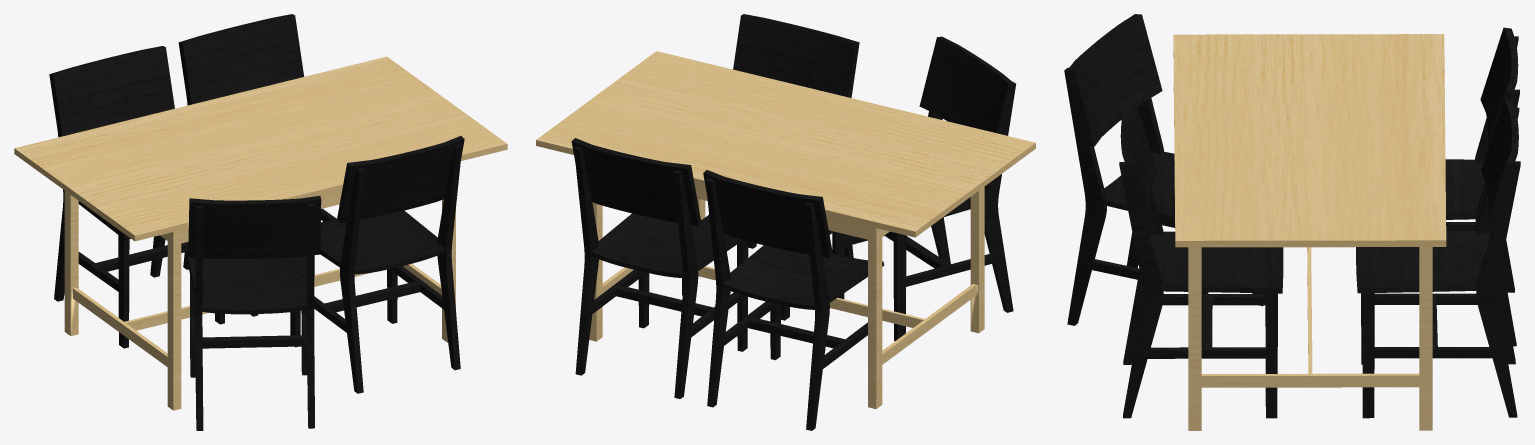
Rendered from IKEA-Norden_Gateleg_Table_and_Chair-3D.obj.
3 renders of one model, left to right at view 1: azimuth 30°, elevation 25°; view 2: azimuth 150°, elevation 25°; view 3: azimuth 270°, elevation 25°, orthographic. The views are drawn at different scales.
Visible parts, largest first — view 1: Line01, Object03, Object04, Object01, Object02; view 2: Line01, Object02, Object01, Object04, Object03; view 3: Line01, Object02, Object03, Object04, Object01.
Boxes of the visible parts, bbox=[...] form: Line01: bbox=[14, 56, 507, 410]; Object03: bbox=[290, 136, 464, 393]; Object04: bbox=[187, 196, 321, 430]; Object01: bbox=[49, 46, 224, 348]; Object02: bbox=[178, 14, 336, 316]; Line01: bbox=[536, 51, 1035, 408]; Object02: bbox=[571, 138, 748, 398]; Object01: bbox=[703, 170, 884, 430]; Object04: bbox=[832, 36, 1015, 340]; Object03: bbox=[682, 14, 859, 320]; Line01: bbox=[1173, 34, 1446, 430]; Object02: bbox=[1356, 99, 1520, 418]; Object03: bbox=[1119, 100, 1283, 418]; Object04: bbox=[1064, 14, 1265, 346]; Object01: bbox=[1445, 27, 1519, 346].
Bounding box in the file's own units: 1523 × 889 × 1422.
